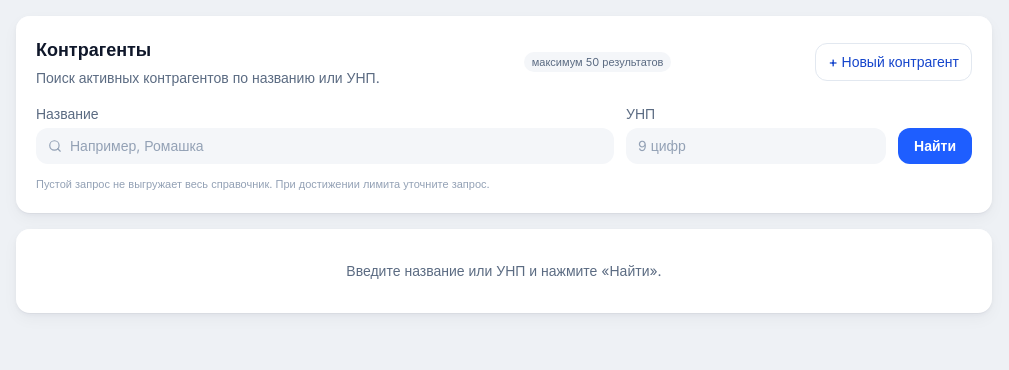
Test: SpravCounterparties › ищет по названию, обновляет URL и показывает реальные ID
In the field labelled "Название": (336, 146) [70,136,602,156], type "Ром"
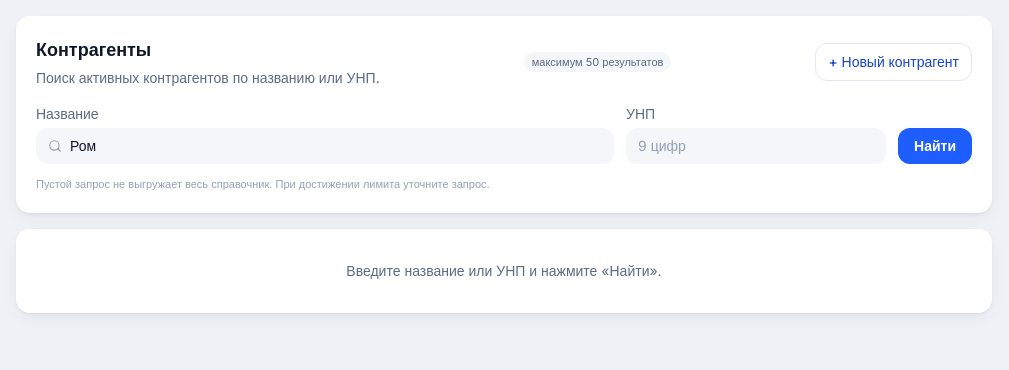
Click the button "Найти": (935, 146) [898,128,972,164]
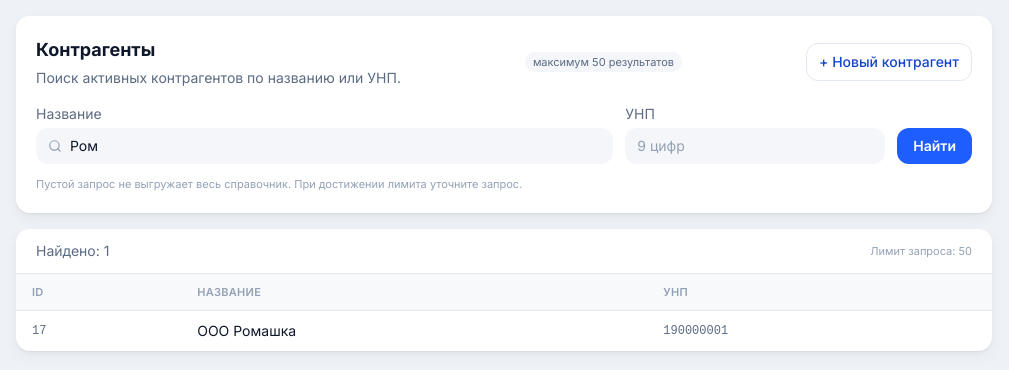
Now the text "ООО Ромашка" is shown, box [181,310,647,350]
Now the link "17" is shown, box [32,324,46,338]
